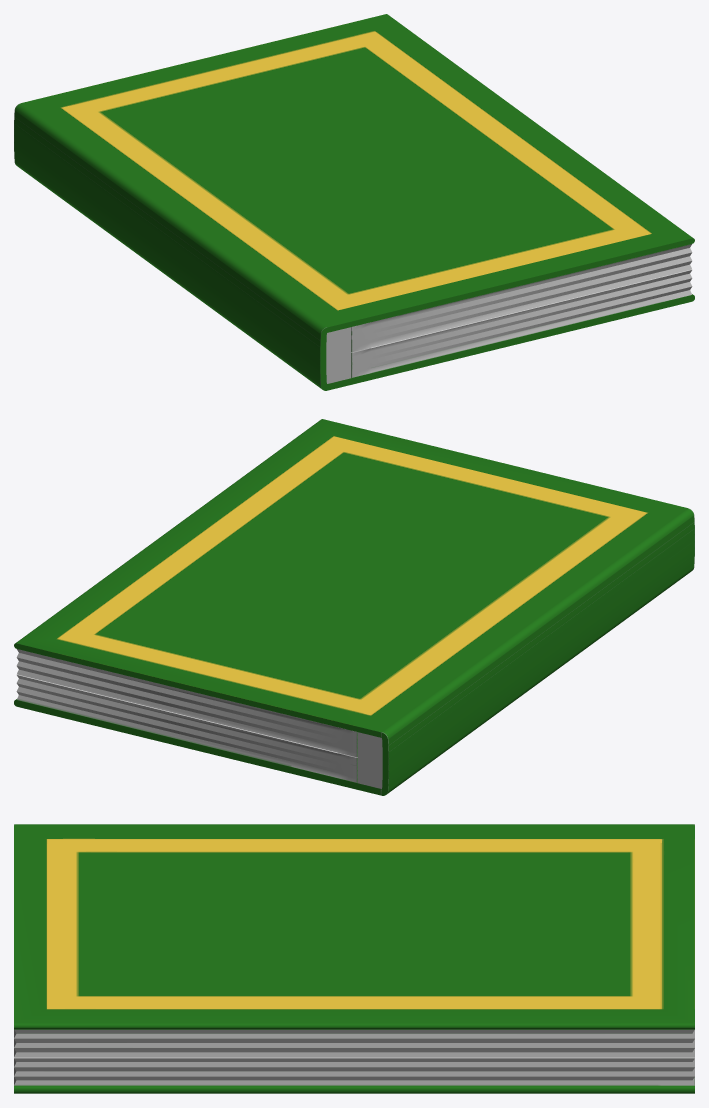
The model's file is Books.fbx.
The picture shows the model from 3 angles, top to bottom: view 1: azimuth 30°, elevation 25°; view 2: azimuth 150°, elevation 25°; view 3: azimuth 270°, elevation 25°; orthographic projection. The views are drawn at different scales.
Parts seen in each view (by area): view 1: Book; view 2: Book; view 3: Book.
Boxes of the visible parts, x1,y1,x2,y2 form: Book: [14, 14, 694, 390]; Book: [14, 419, 694, 795]; Book: [14, 824, 694, 1093].
Size of the model in its own units: 142 by 22.97 by 202.
